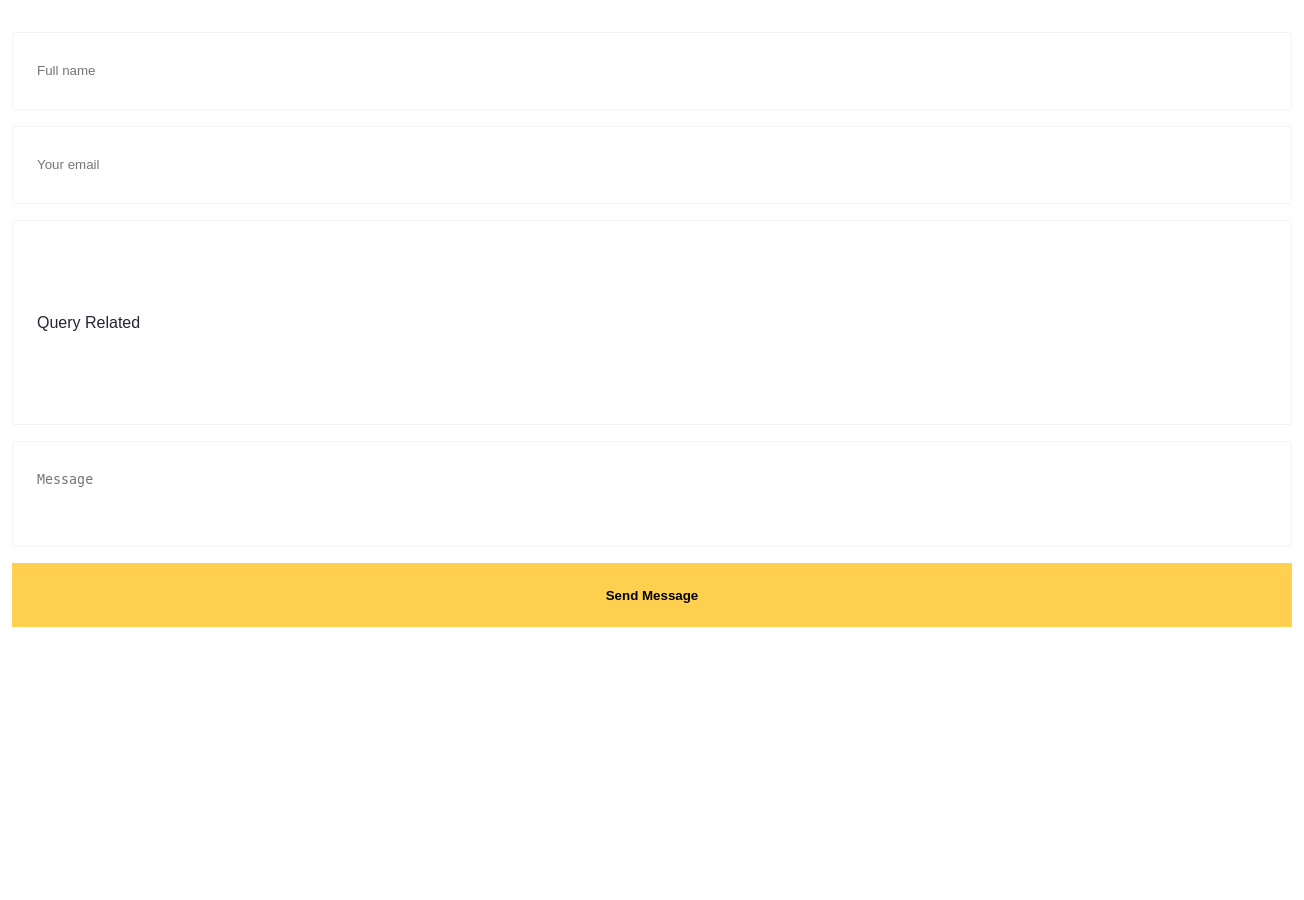
Test: ContactForm › should show email error
Type "fakeEmail@test.test" into the field with test id "email-input" at coordinates (652, 165), box [12, 126, 1292, 204]
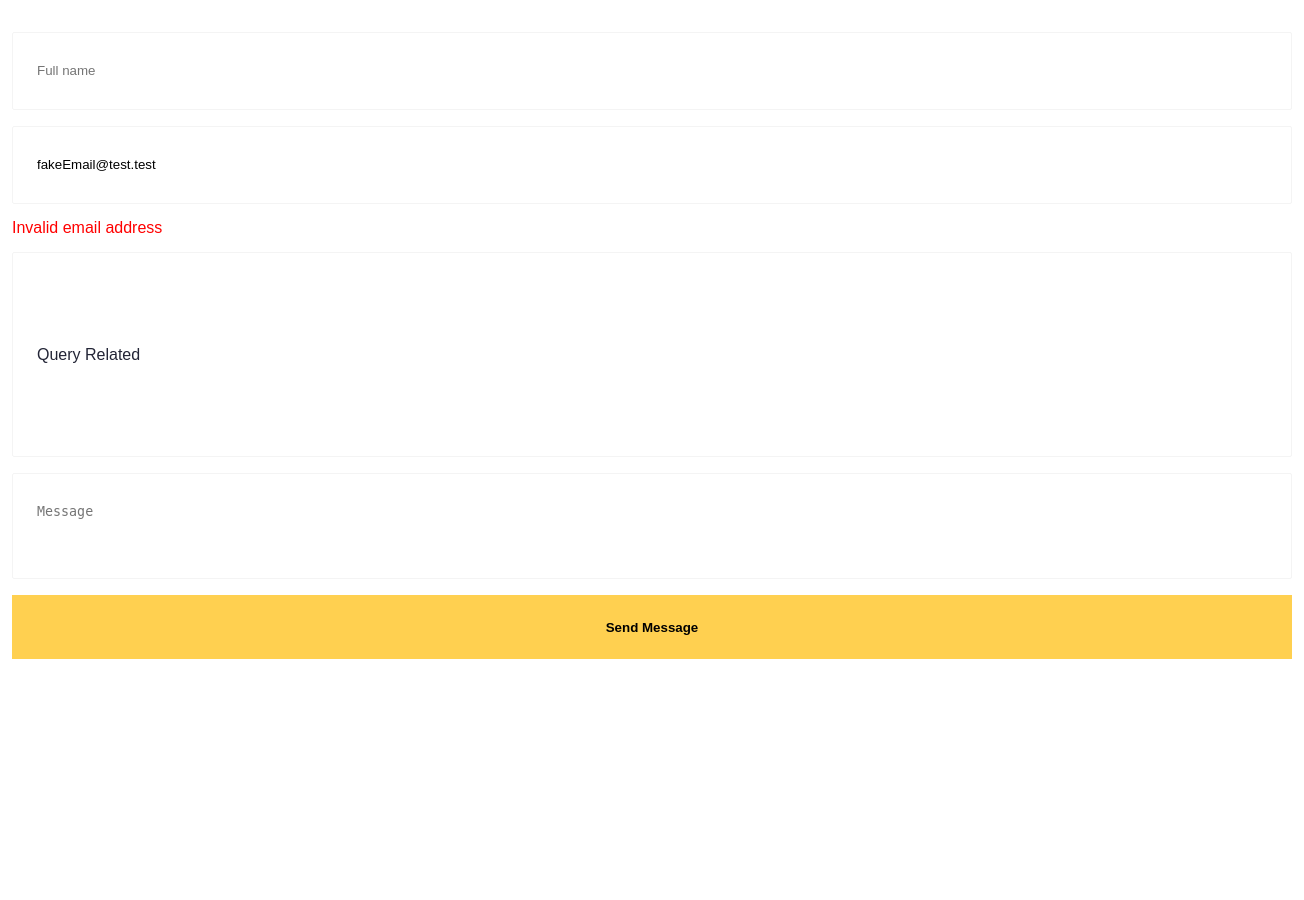
Result: the text "Invalid email address" is shown at [12, 219, 162, 236]
